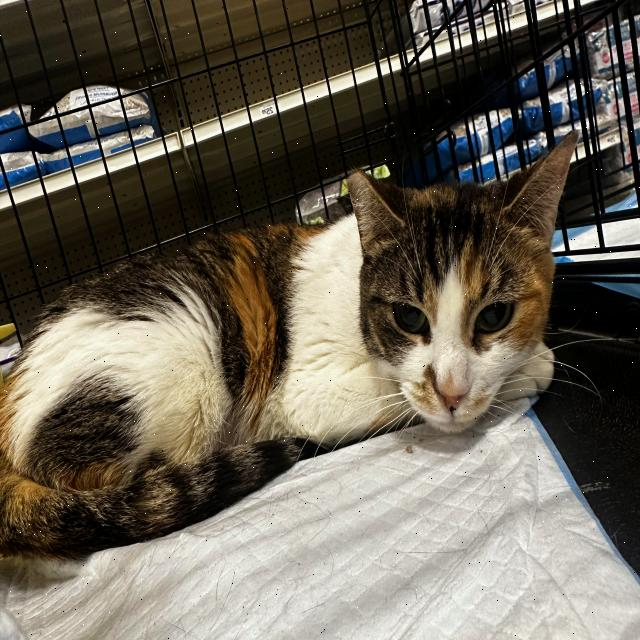calico_cat: (326, 111, 592, 457)
